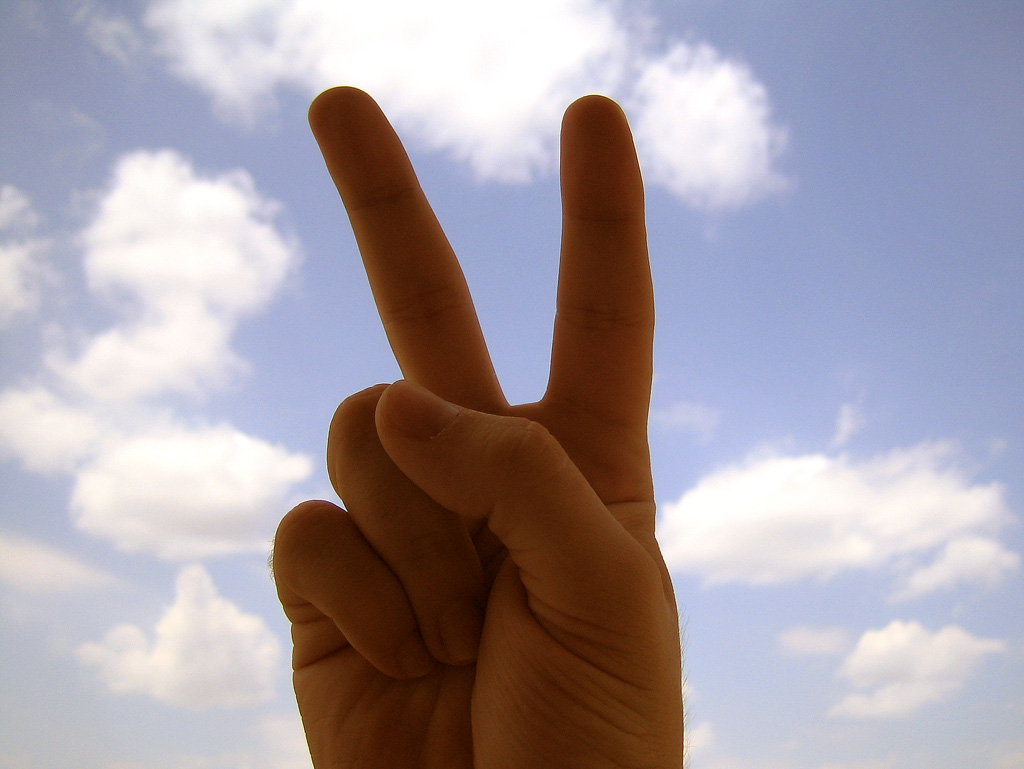v_s: (227, 71, 708, 766)
